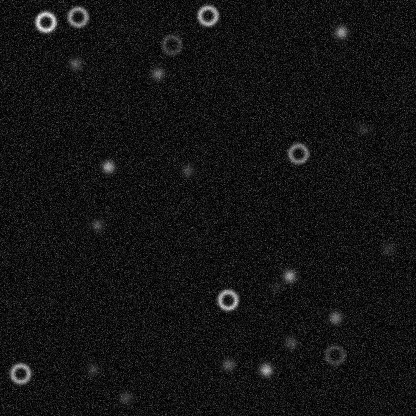Ring: (322, 342, 346, 366), (33, 9, 57, 33), (286, 141, 310, 165), (215, 287, 239, 311), (8, 361, 32, 385), (159, 32, 183, 56), (65, 4, 89, 28), (195, 3, 219, 27)
Spot: (67, 55, 83, 71), (100, 158, 116, 174), (283, 334, 299, 350), (333, 24, 349, 40), (179, 162, 195, 178), (219, 356, 235, 372), (117, 389, 133, 405), (149, 65, 165, 81), (379, 240, 395, 256), (89, 217, 105, 233), (327, 309, 343, 325), (84, 361, 100, 377), (281, 267, 297, 283), (354, 121, 370, 137), (267, 278, 283, 294), (257, 361, 273, 377)
